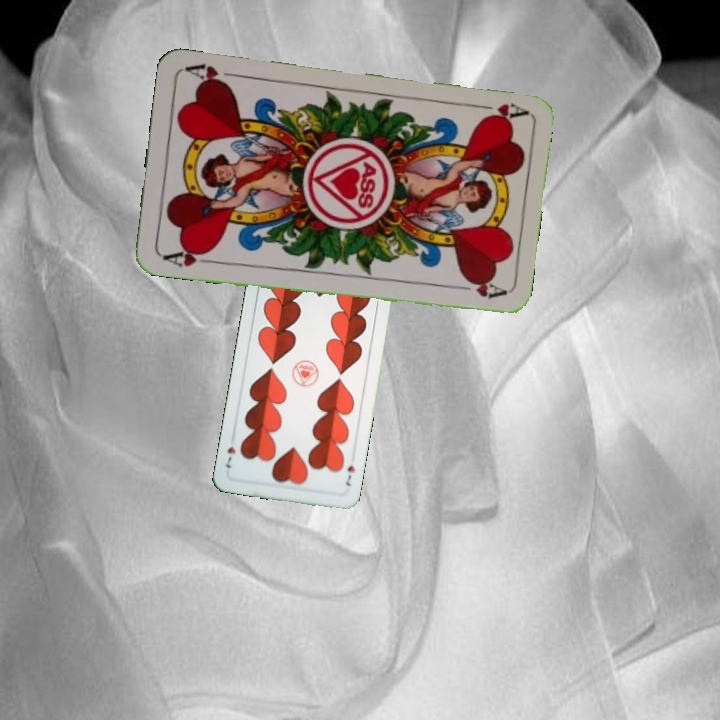H7: (339, 461, 357, 489)
HA: (469, 98, 529, 125), (158, 243, 217, 269)
